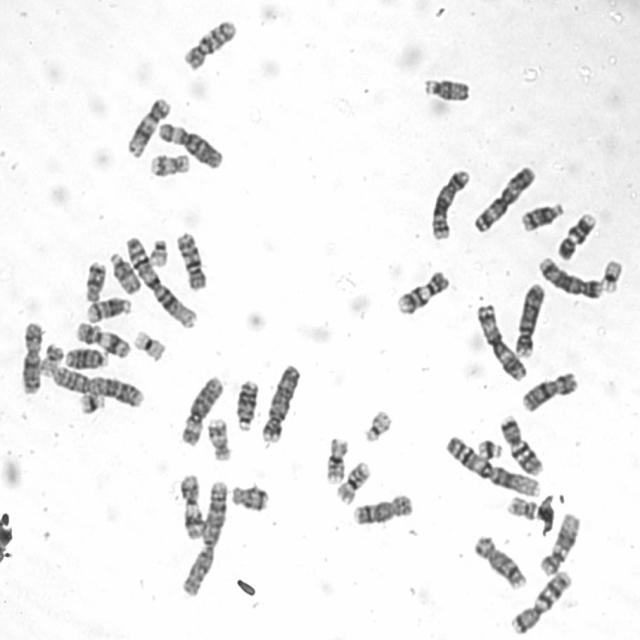A1: (124, 233, 198, 330), (444, 432, 542, 500)
A2: (177, 476, 230, 596), (47, 362, 145, 408)
A3: (470, 163, 538, 234), (473, 300, 528, 382)
B4: (259, 360, 302, 444), (512, 279, 548, 359)
B5: (427, 165, 471, 241), (537, 253, 603, 299)
C10: (179, 16, 239, 72), (174, 228, 209, 293)
C11: (73, 319, 132, 360), (178, 471, 206, 541)
C12: (124, 94, 172, 158), (536, 510, 582, 576)
C6: (178, 373, 225, 447), (155, 119, 223, 170)
C7: (508, 567, 574, 635), (498, 412, 544, 477)
C8: (469, 532, 528, 591), (350, 491, 414, 526)
C9: (393, 267, 450, 316), (555, 208, 598, 262)
D13: (233, 376, 261, 432), (63, 344, 109, 370)
D14: (519, 200, 565, 234), (84, 294, 133, 324)
D15: (107, 249, 143, 296), (421, 72, 471, 104)
E16: (333, 458, 372, 505), (322, 434, 350, 484)
E17: (204, 415, 233, 463), (148, 149, 192, 178)
E18: (228, 481, 270, 514), (82, 258, 108, 304)
F19: (132, 327, 168, 363), (598, 257, 624, 294)
F20: (37, 340, 65, 377), (505, 494, 539, 522)
G21: (77, 388, 107, 416), (476, 436, 504, 462)
G22: (361, 406, 394, 444), (146, 236, 170, 268)
X: (518, 368, 580, 413), (18, 318, 44, 396)
